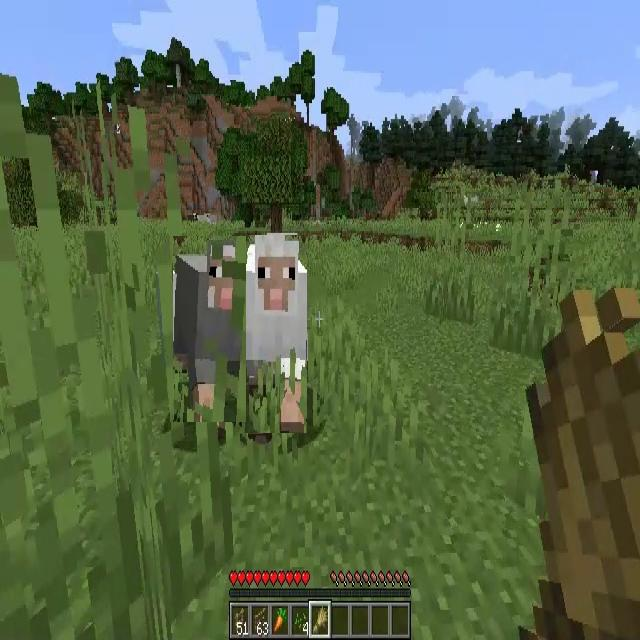sheep: (173, 236, 246, 422), (245, 236, 307, 434)
